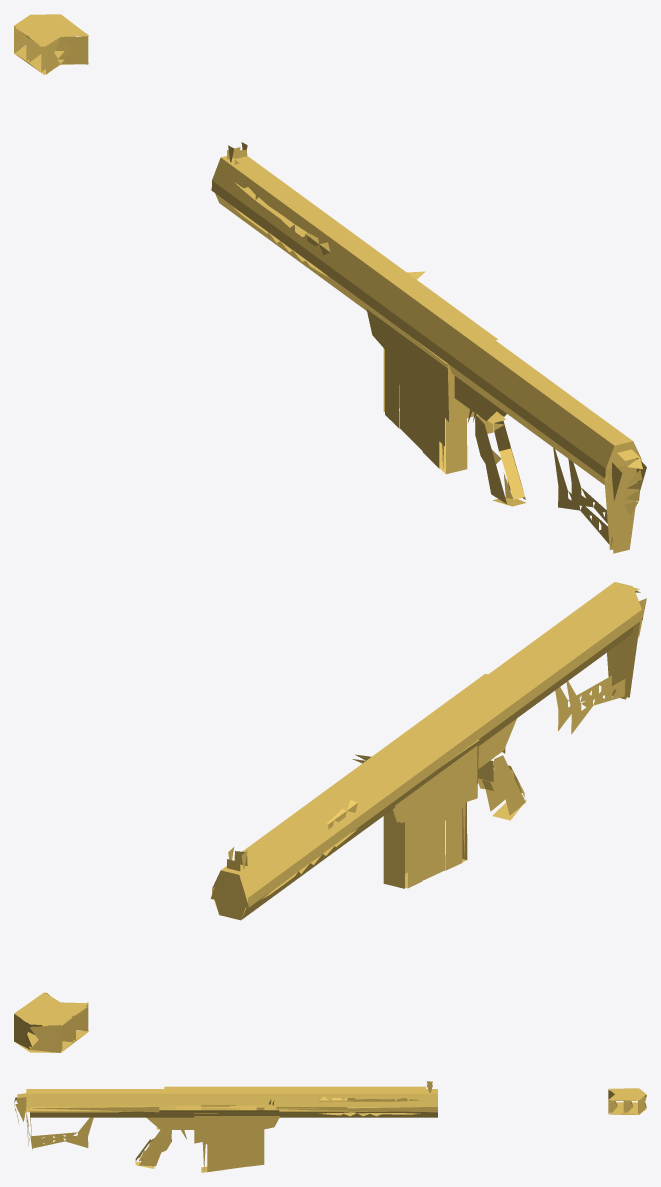
File: charm_mst_sniper_2.glb
3 views of the same model, one above another, from view 1: azimuth 30°, elevation 25°; view 2: azimuth 150°, elevation 25°; view 3: azimuth 270°, elevation 25° (orthographic). The views are drawn at different scales.
Parts seen in each view (by area): view 1: p0_paint; view 2: p0_paint; view 3: p0_paint.
Boxes of the visible parts, left/top/right/bottom form: p0_paint: left=14, top=14, right=646, bottom=553; p0_paint: left=14, top=582, right=646, bottom=1052; p0_paint: left=14, top=1081, right=646, bottom=1172.
Bounding box in the file's own units: 0.0817 × 0.2198 × 1.44.
